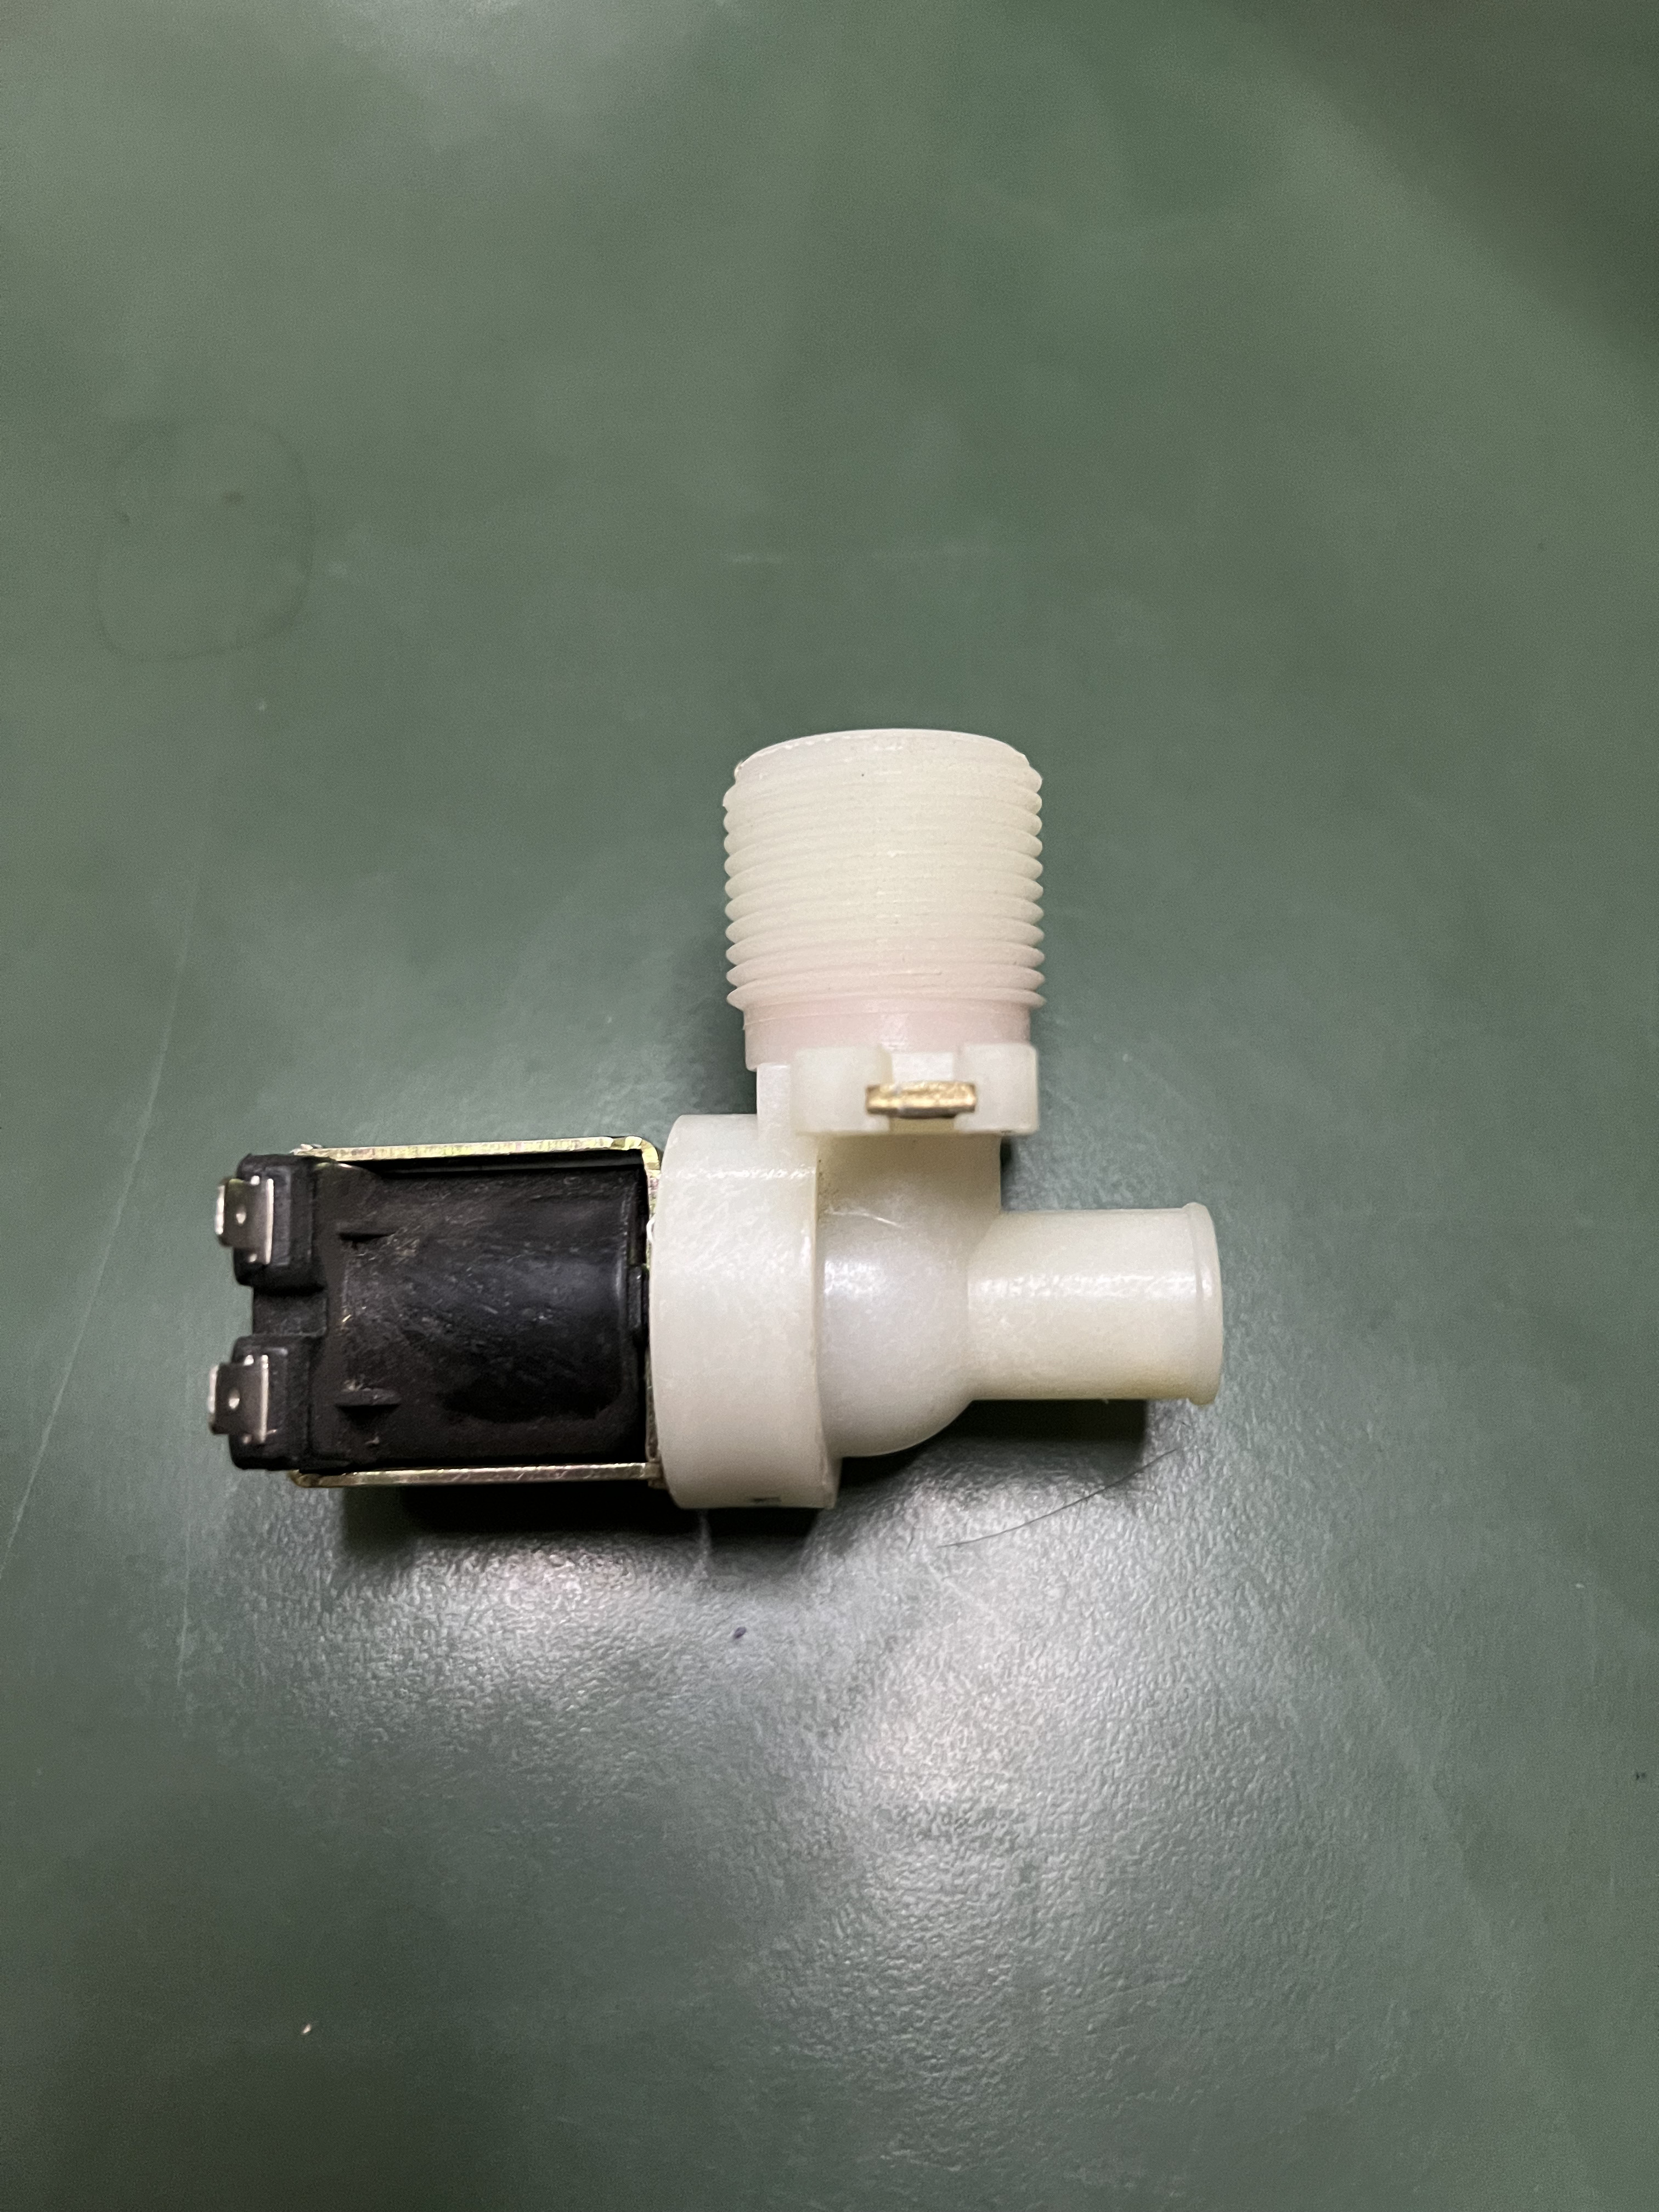godrej_inlet_valves: (218, 693, 1253, 1604)
